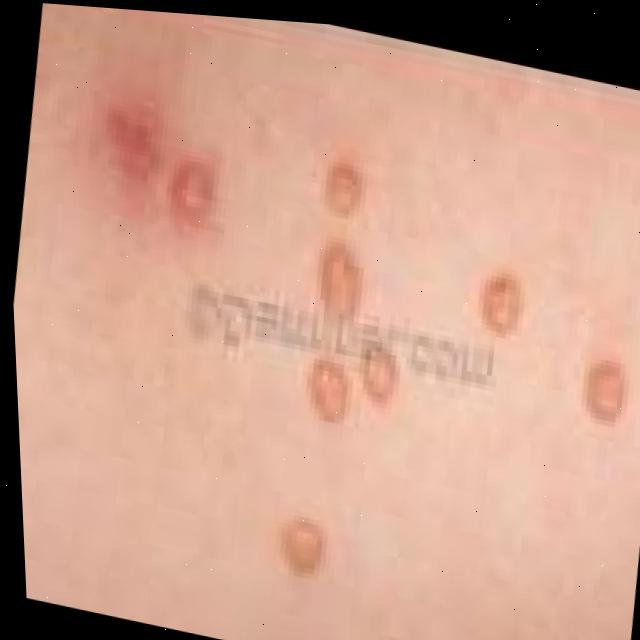Shingles: (254, 158, 446, 620), (78, 72, 248, 232), (576, 361, 634, 427), (471, 273, 526, 339)
